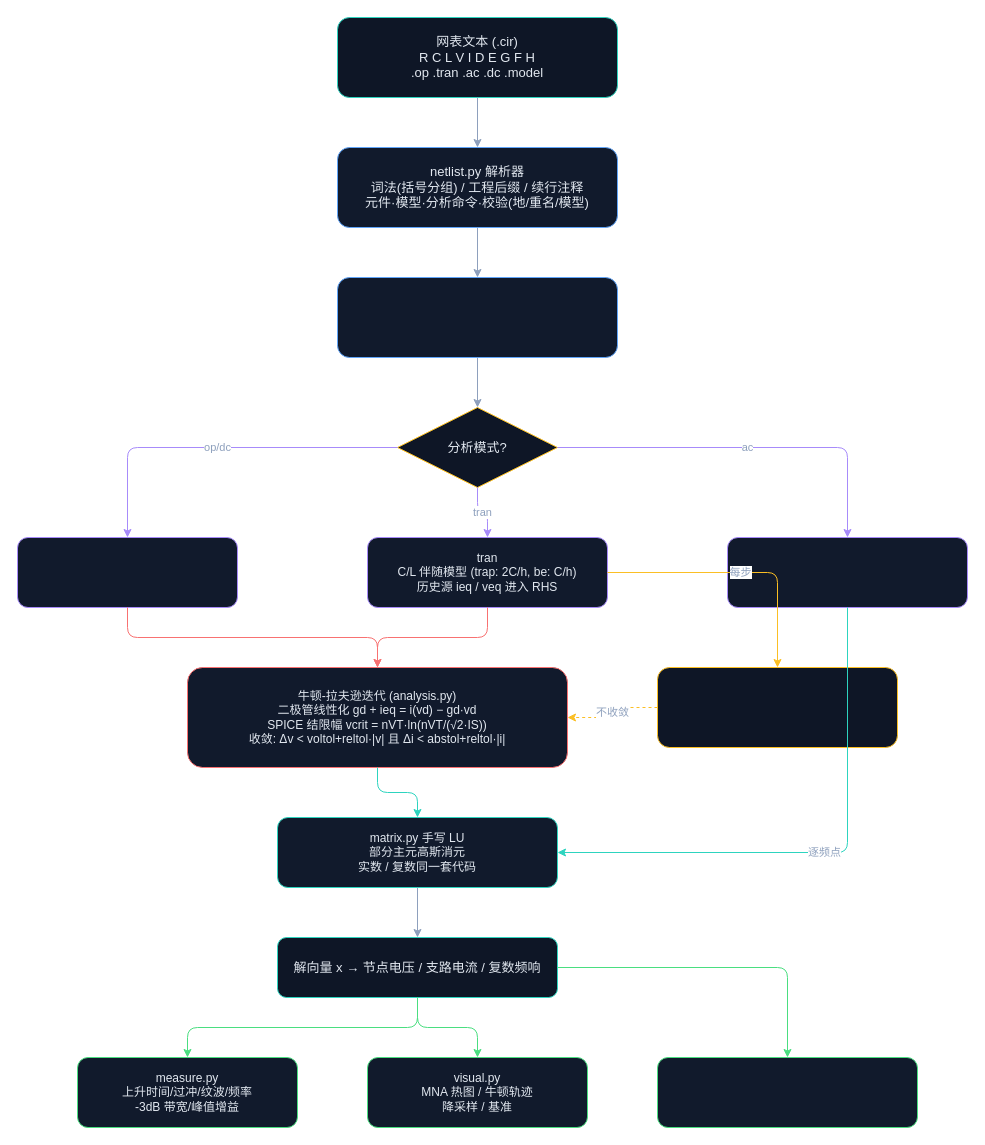
This 985x1145 diagram has some shape labels left out. The centre of each missing label's shape, as x and y in pixels:
ac 工作点处线性化 (二极管 gd, jωC, jωL) dec / oct / lin 频率网格: pixel 847 572
cli.py (10 子命令, --json) server.py (7 API, 127.0.0.1:8863) web/ 六标签工作台 (Canvas): pixel 787 1092
mna.py System 未知量 = 节点电压(除地) + V/L/E/H 支路电流 元件戳记 stamp → A·x = b: pixel 477 317
op / dc C 开路 · L 短路 DC 扫描 warm-start: pixel 127 572
步长自适应 失败: dt/2 重试 (至 dt/64) 成功: 更新历史态, dt×1.5 恢复: pixel 777 707
